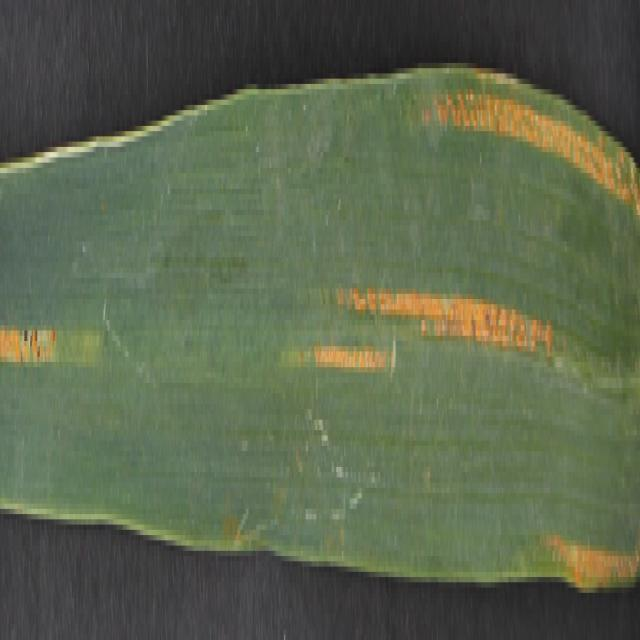leaf rust: (308, 220, 560, 414), (434, 68, 638, 226), (546, 483, 640, 603), (1, 304, 76, 383)
